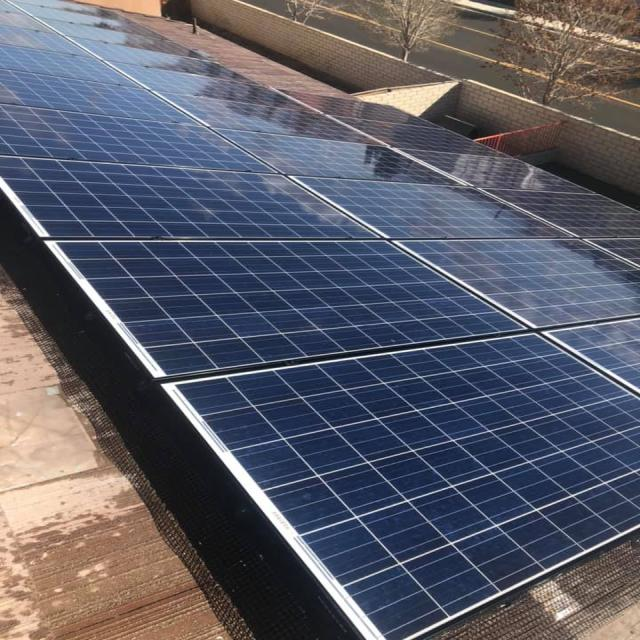clean-solar-panel: (2, 0, 637, 640), (308, 412, 312, 415)
